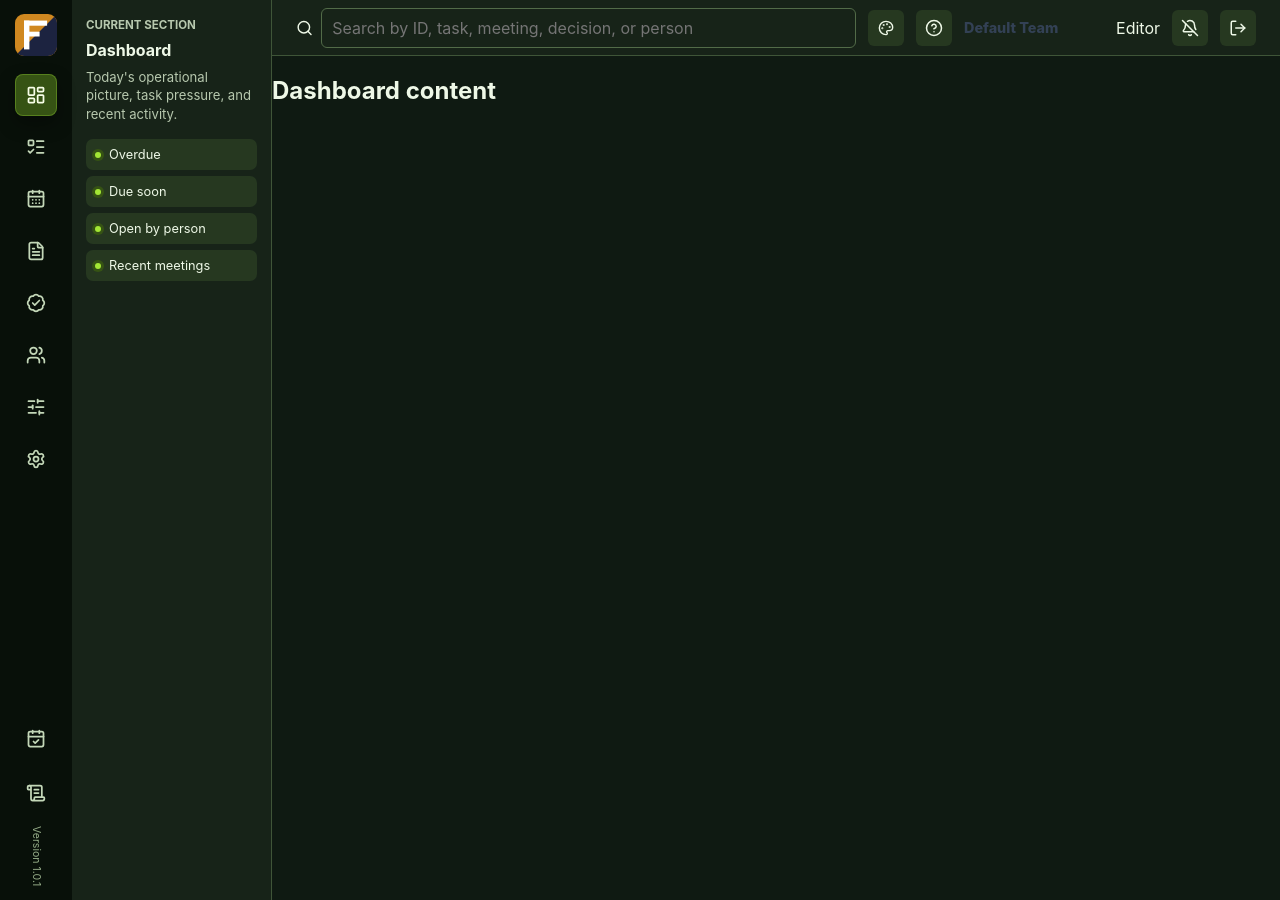
AppShell split context rail › loads a stored app skin
Click the button named "Choose app skin": point(886, 28) x1=868 y1=10 x2=904 y2=46
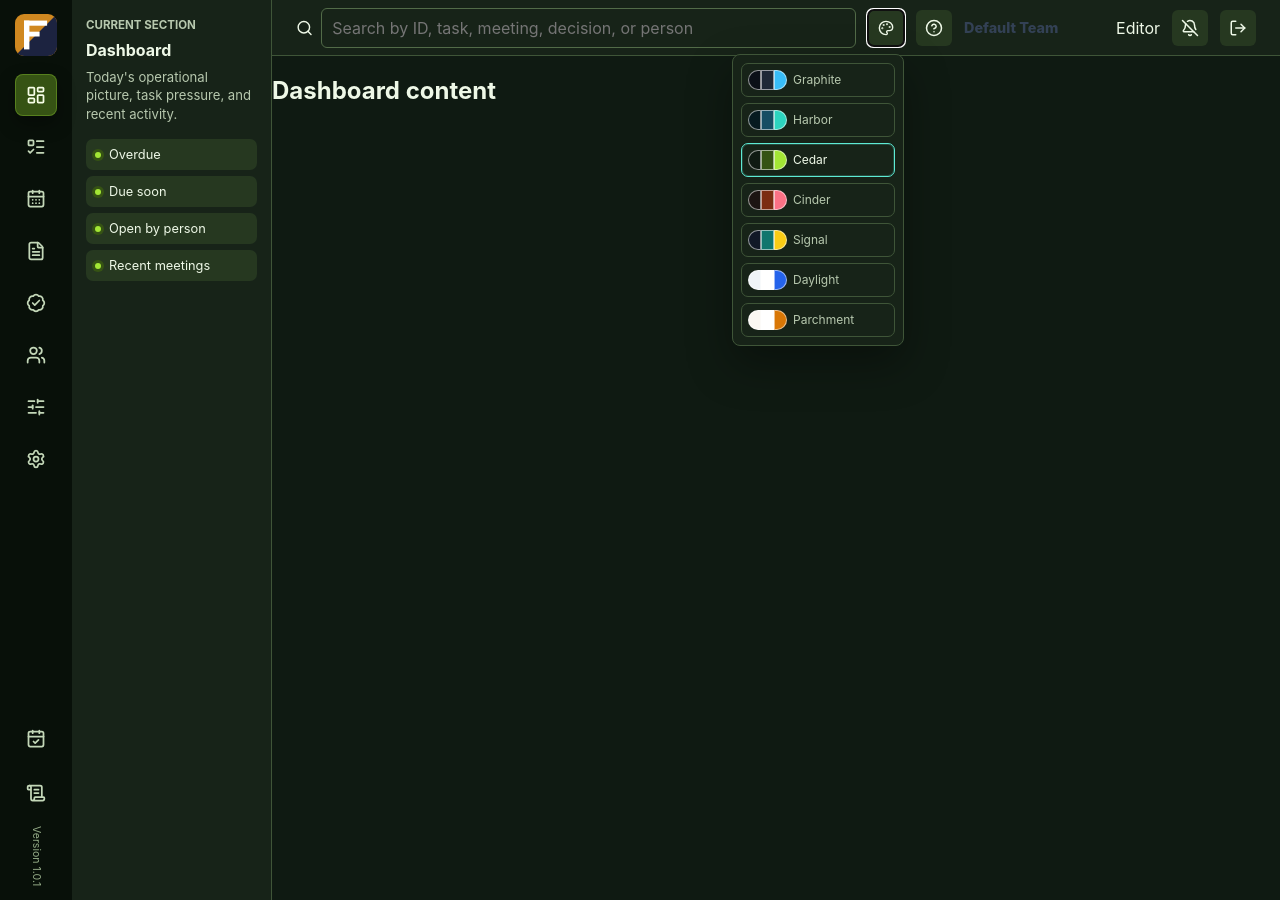
Result: the radio button labelled "Cedar" is checked at x1=741 y1=142 x2=895 y2=176
